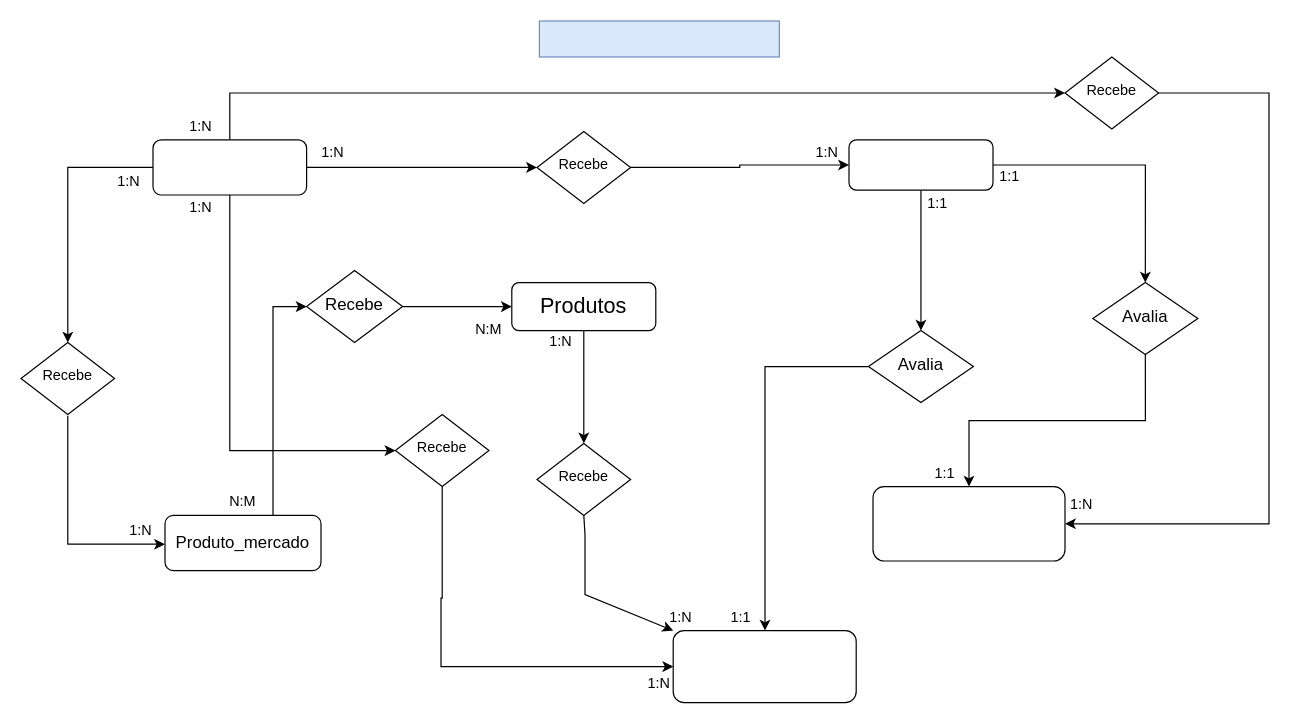
Image size: 1300x724. Some labels were removed from this diagram. Each missing label, with the centre of its shape:
"AvaliaçãoMercado" belongs at point (968, 523).
"AvaliaçãoProduto" belongs at point (764, 666).
"Clientes" belongs at point (920, 164).
"DER - TCC do Sistema para mercados de Bairro" belongs at point (658, 38).
"Mercados" belongs at point (229, 167).
